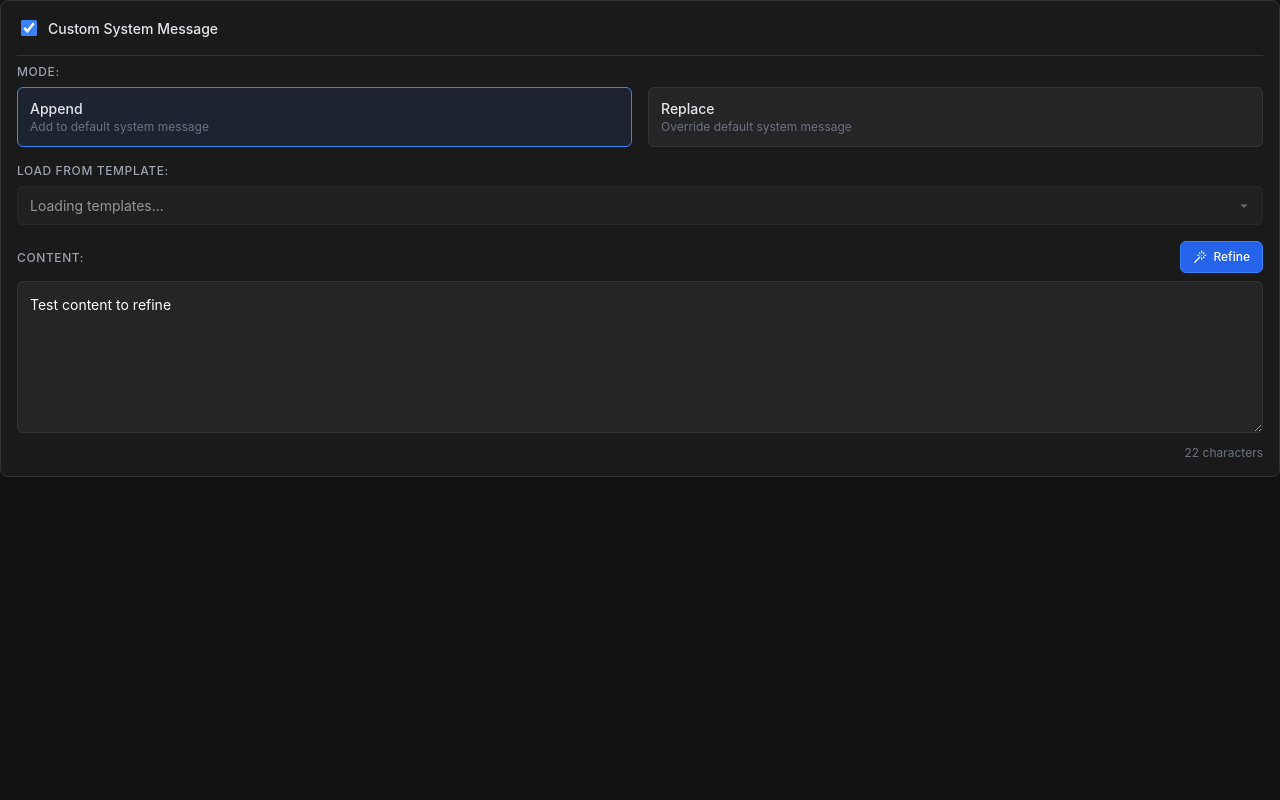
it: SystemMessageEditor › refine button › shows error message on failed refinement
Click the button with test id "refine-button".
click(1222, 257)  # box x1=1180 y1=241 x2=1263 y2=273
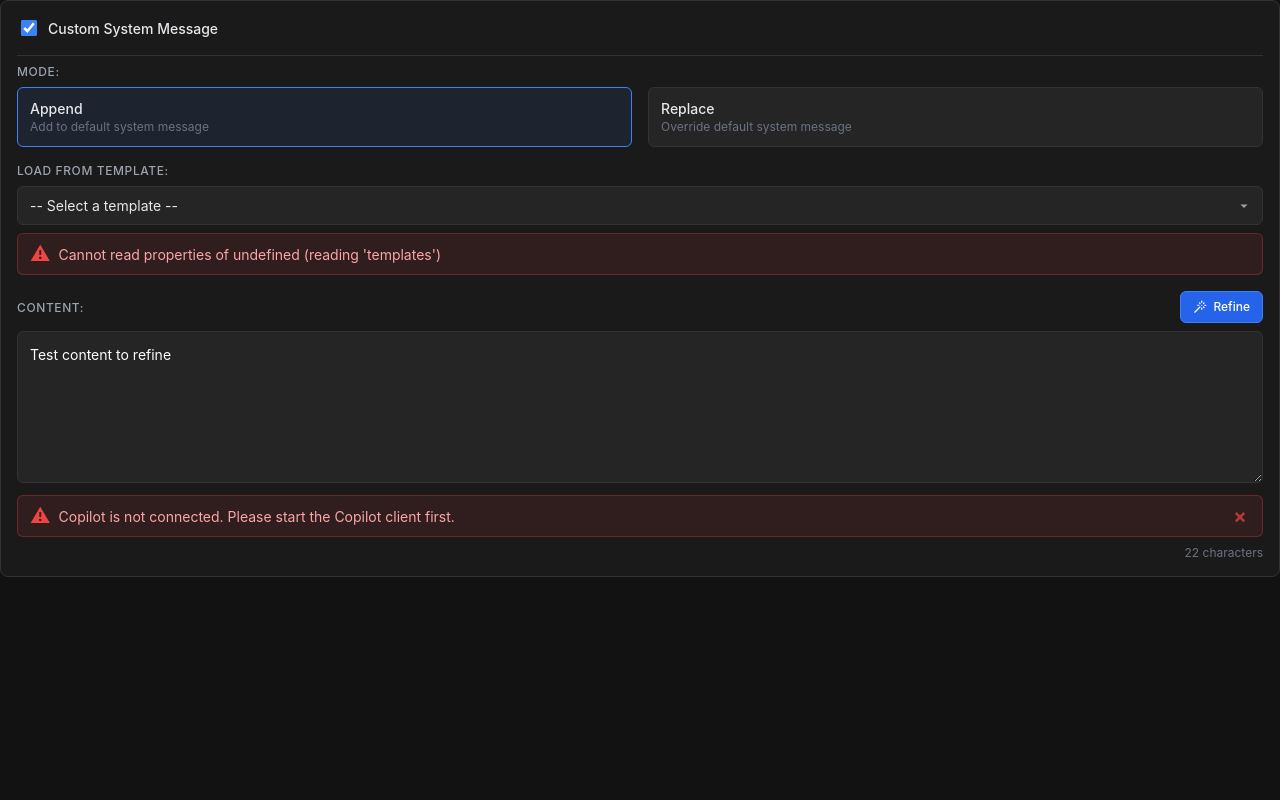
Expected: the message "⚠ Copilot is not connected. Please start the Copilot client first. ×" is shown, x1=17 y1=495 x2=1263 y2=537
Expected: the text "Copilot is not connected. Please start the Copilot client first." is shown, x1=58 y1=508 x2=455 y2=524
